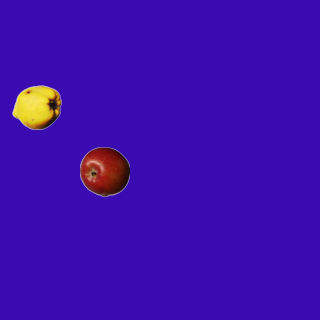Apple Braeburn: (79, 146, 129, 196)
Quince: (11, 82, 61, 132)
